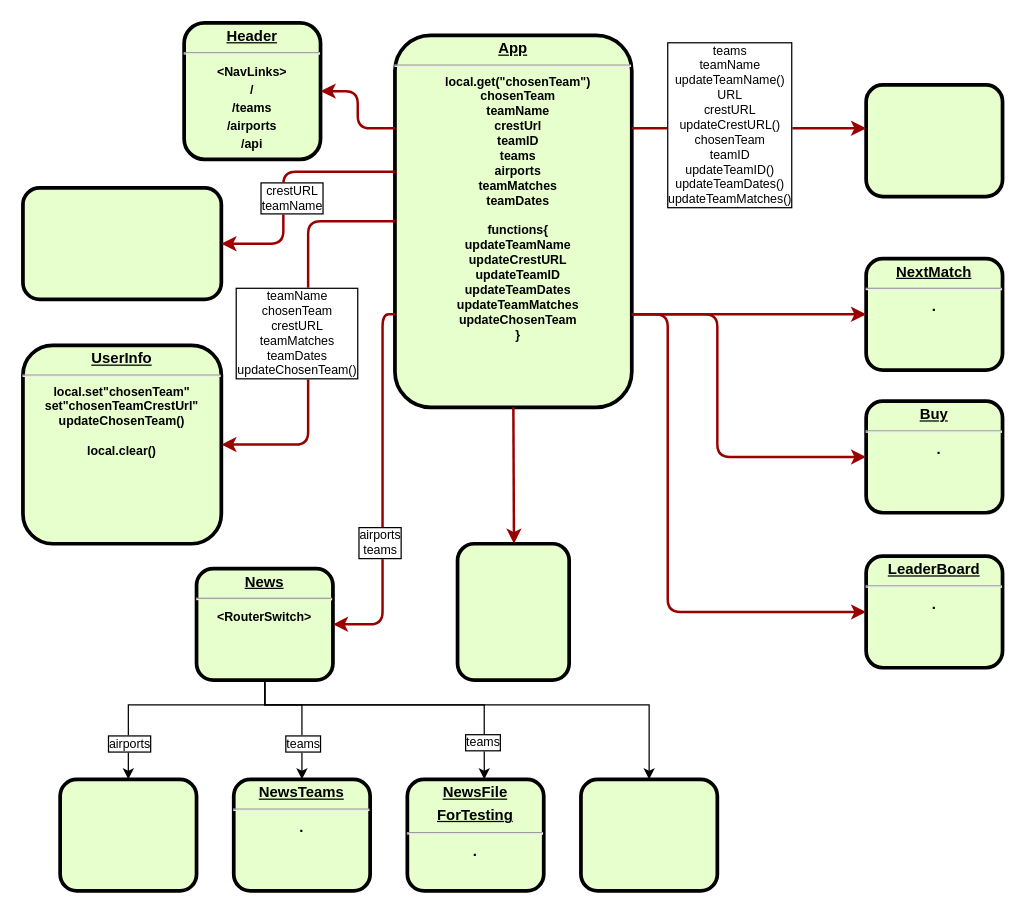
Image size: 1025x914. Some labels were removed from this diagram. The shapes that lost their labels are listed below. From the top down, each one's box as (x1, y1, x2, y2) in pixels, then its label:
(864, 82, 1004, 198): Search .
(20, 185, 223, 301): TeamCrest local.get"chosenTeam" get"chosenTeamCrestUrl"
(455, 541, 570, 681): Map .
(58, 777, 198, 892): NewsAirports .
(578, 777, 719, 892): NewsApi .
